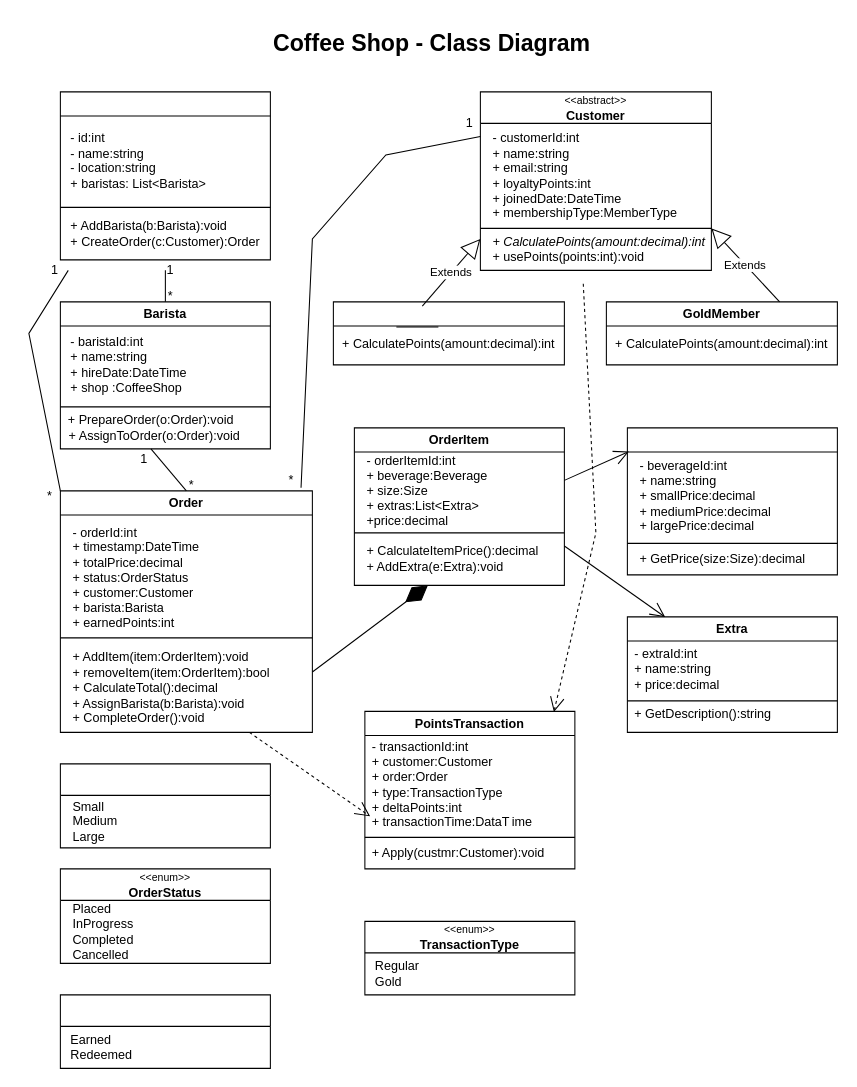
Image size: 857x1087. Some labels were removed from this diagram. The shapes that lost their labels are listed below. From the top down, each one's box as (x1, y1, x2, y2) in pixels, then its label:
(59, 91, 270, 260): CoffeeShop
(332, 301, 564, 365): RegularMember
(626, 427, 837, 575): Bevcerage
(59, 763, 270, 848): <<enum>> Size
(59, 994, 270, 1068): <<enum>> MemberType
